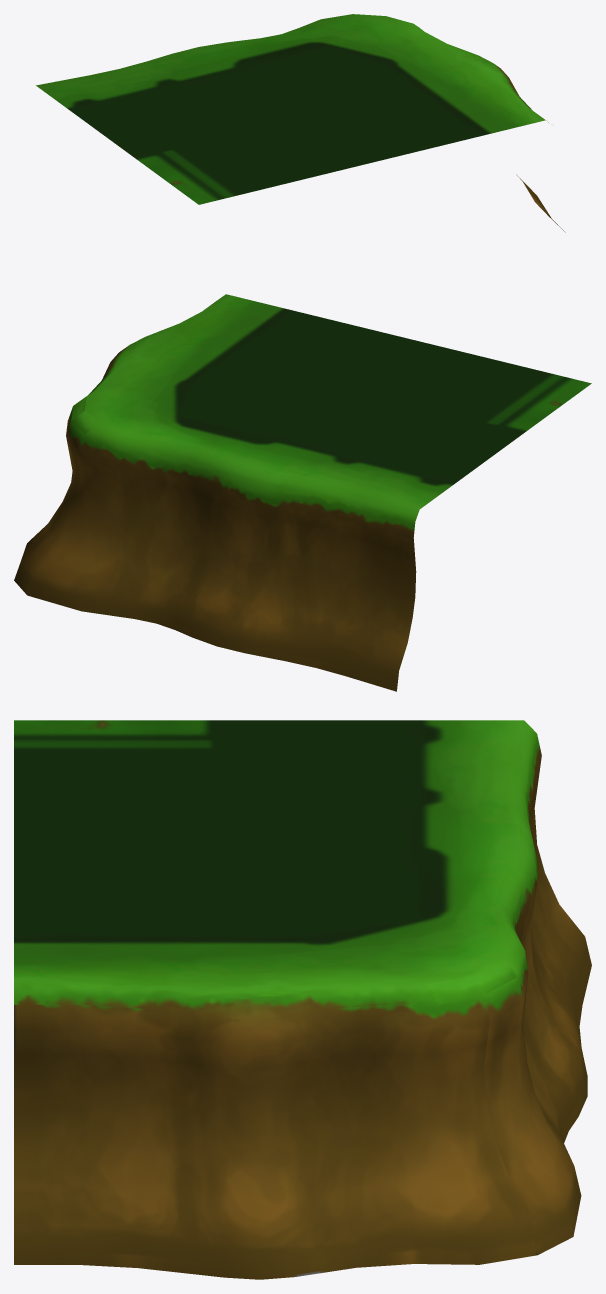
File: hill04_model.glb
3 renders of one model, top to bottom at view 1: azimuth 30°, elevation 25°; view 2: azimuth 150°, elevation 25°; view 3: azimuth 270°, elevation 25°, orthographic. The views are drawn at different scales.
Parts seen in each view (by area): view 1: terrain_t13; view 2: terrain_t13; view 3: terrain_t13.
Part boxes in pixels (bbox=[...]): terrain_t13: bbox=[36, 14, 565, 232]; terrain_t13: bbox=[14, 294, 591, 691]; terrain_t13: bbox=[14, 720, 591, 1279].
Size of what is drawn, in the model's own units: 27.47 by 9.99 by 21.34.
1 material, 1 textured.
